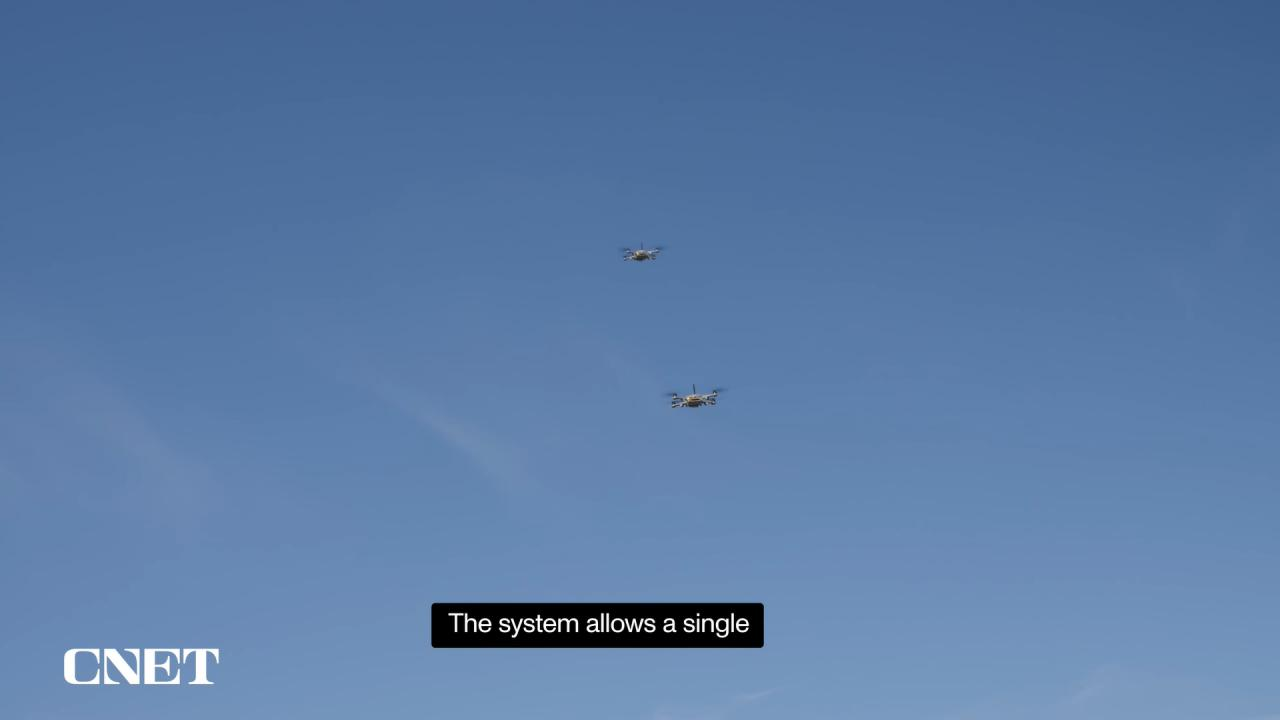Drone: (652, 373, 733, 423), (609, 234, 678, 276)
